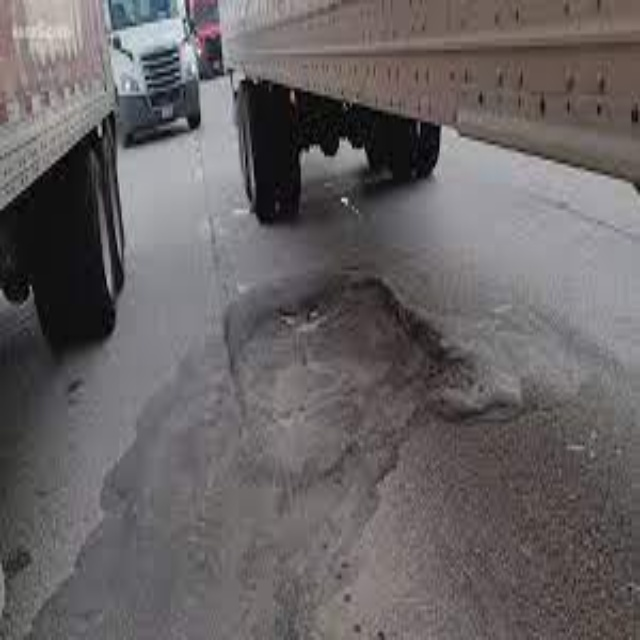pothole: (224, 274, 474, 434)
